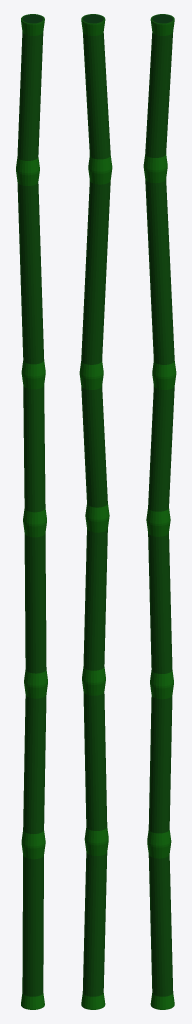
The model's file is Bamboo_Alive.fbx.
3 renders of one model, left to right at view 1: azimuth 30°, elevation 25°; view 2: azimuth 150°, elevation 25°; view 3: azimuth 330°, elevation 25°, orthographic.
Parts seen in each view (by area): view 1: Cylinder.009; view 2: Cylinder.009; view 3: Cylinder.009.
Part boxes in pixels (<box>): Cylinder.009: <box>16,14,47,1009</box>; Cylinder.009: <box>79,14,112,1009</box>; Cylinder.009: <box>143,14,176,1009</box>.
Bounding box in the file's own units: 6.72 × 226 × 6.48.
